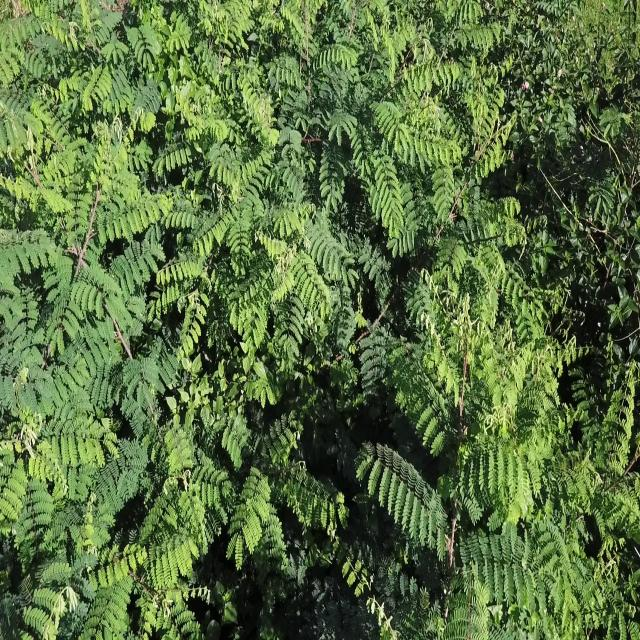Mysore-Thorn-Weed: (4, 0, 188, 479), (366, 242, 536, 640), (363, 0, 495, 224), (207, 422, 352, 570), (0, 337, 103, 516), (31, 536, 202, 638), (271, 8, 351, 196), (567, 364, 640, 530), (542, 518, 588, 615)
